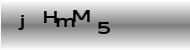5: (97, 20, 111, 35)
H: (42, 9, 58, 24)
M: (71, 8, 91, 24)
j: (17, 13, 26, 31)
m: (55, 16, 75, 28)
